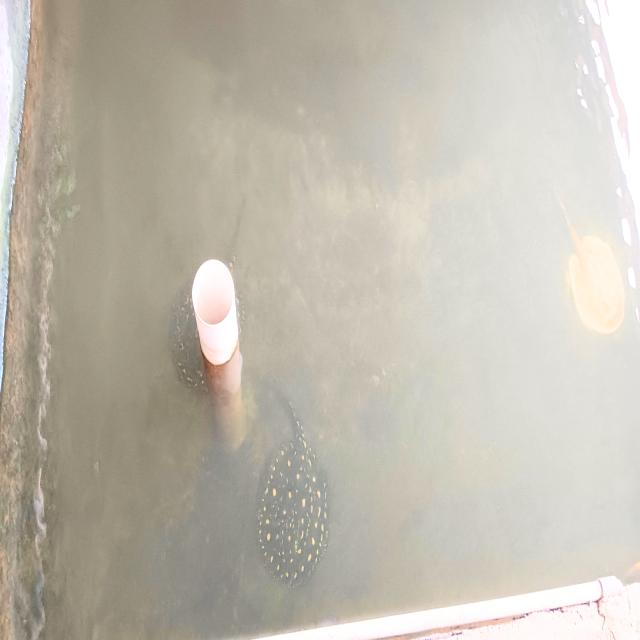Black Diamond Sting Ray: (247, 402, 354, 611)
